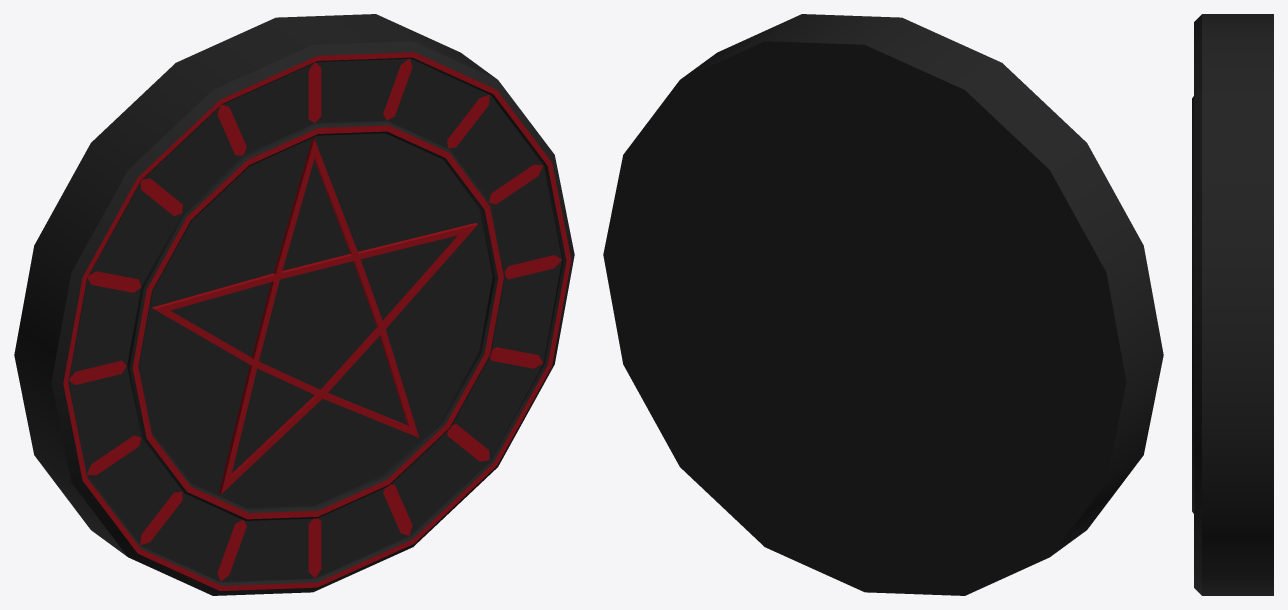
Rendered from pentagram_devil.glb.
3 renders of one model, left to right at view 1: azimuth 30°, elevation 25°; view 2: azimuth 150°, elevation 25°; view 3: azimuth 270°, elevation 25°, orthographic. The views are drawn at different scales.
Parts seen in each view (by area): view 1: 0.100, 1.061; view 2: 0.100; view 3: 0.100.
Boxes of the visible parts, x1,y1,x2,y2 form: 0.100: (14, 14, 574, 595); 1.061: (63, 52, 571, 590); 0.100: (603, 14, 1163, 595); 0.100: (1192, 14, 1273, 595).
Size of the model in its own units: 0.8621 by 0.8621 by 0.121.
